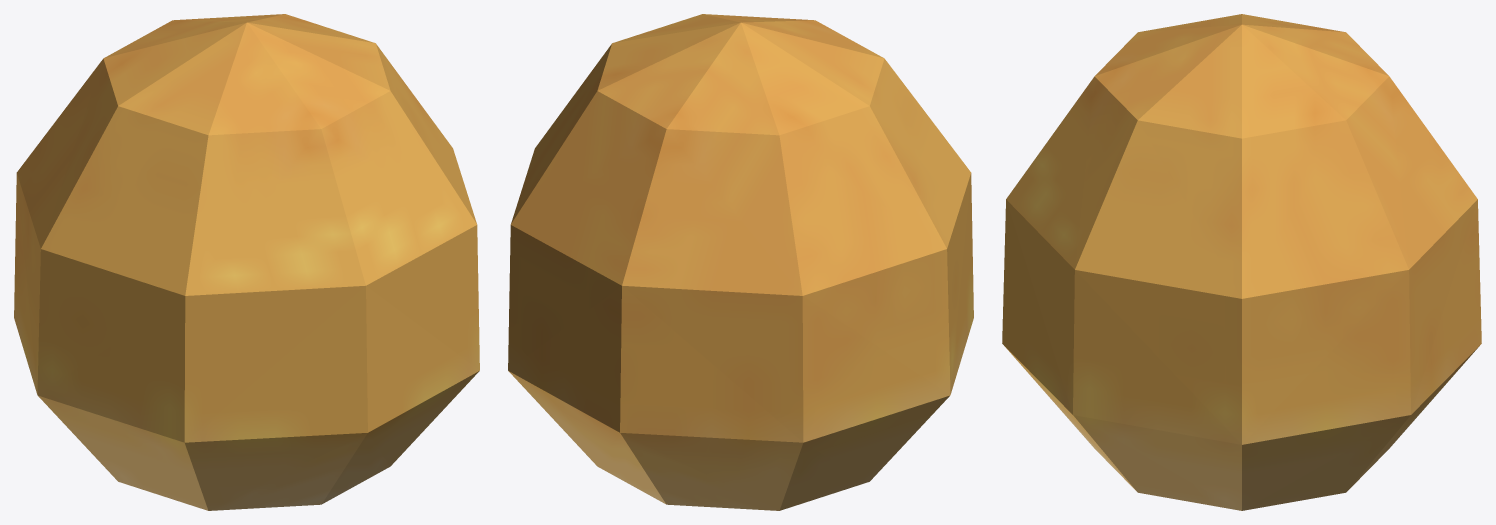
The model's file is spider-egg-unbroken-lod1.glb.
3 views of the same model, side by side, from view 1: azimuth 30°, elevation 25°; view 2: azimuth 150°, elevation 25°; view 3: azimuth 270°, elevation 25° (orthographic).
Parts seen in each view (by area): view 1: spider-egg-unbroken-lod1; view 2: spider-egg-unbroken-lod1; view 3: spider-egg-unbroken-lod1.
Part boxes in pixels (x1,y1,x2,y2): spider-egg-unbroken-lod1: (14,14,479,510); spider-egg-unbroken-lod1: (508,14,973,510); spider-egg-unbroken-lod1: (1002,14,1481,510).
Bounding box in the file's own units: 3.81 × 3.98 × 3.81.
1 material, 1 textured.
